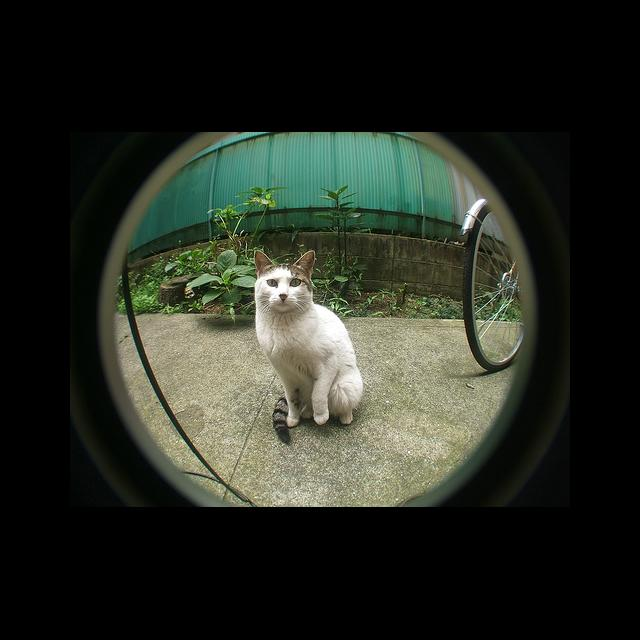animals: (256, 250, 313, 300)
